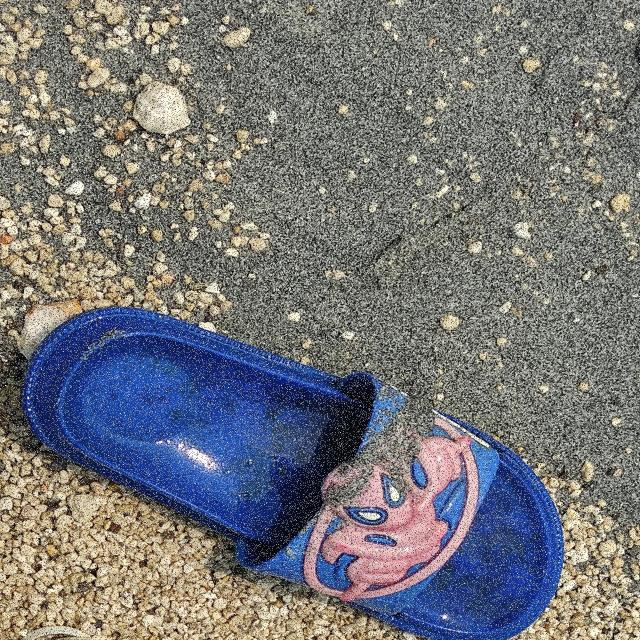rubber_waste: (26, 308, 565, 640)
